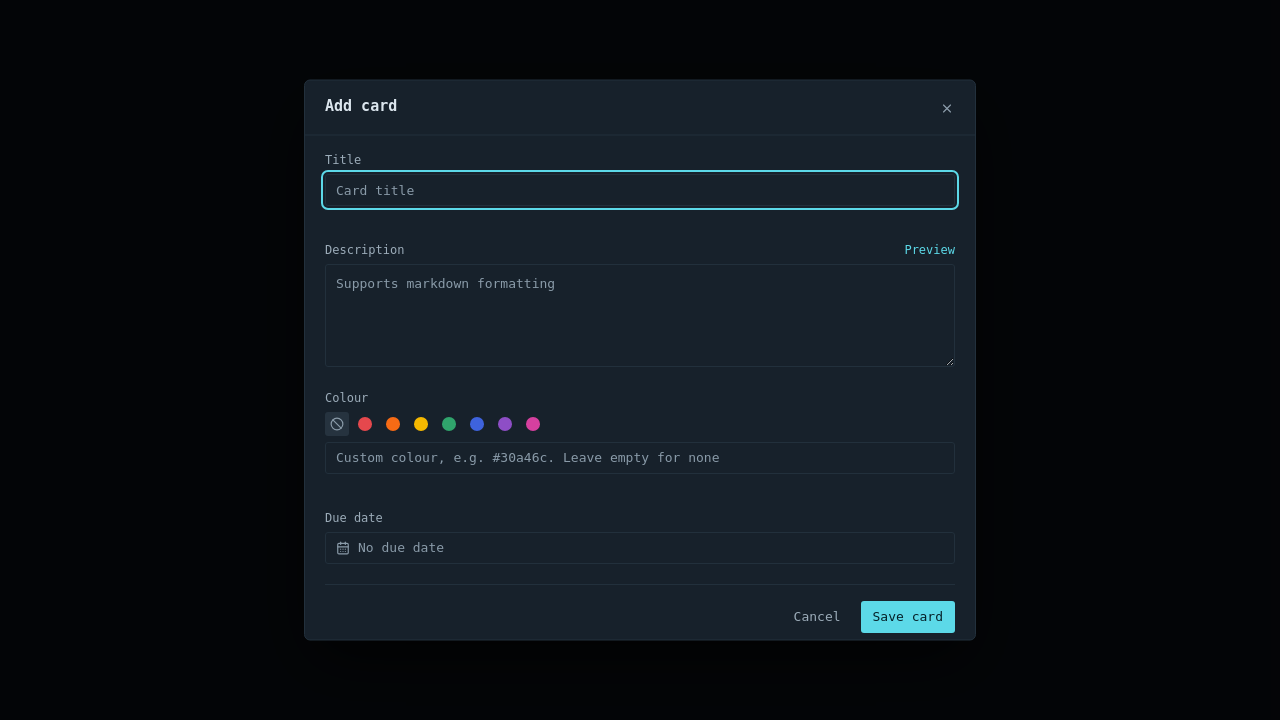
Test case: CardEditor › reports an invalid custom colour inline and focuses its field
The image size is (1280, 720).
Step 1. Type "A card" into the field labelled "Title" → x=640, y=190, box x1=325 y1=174 x2=955 y2=206
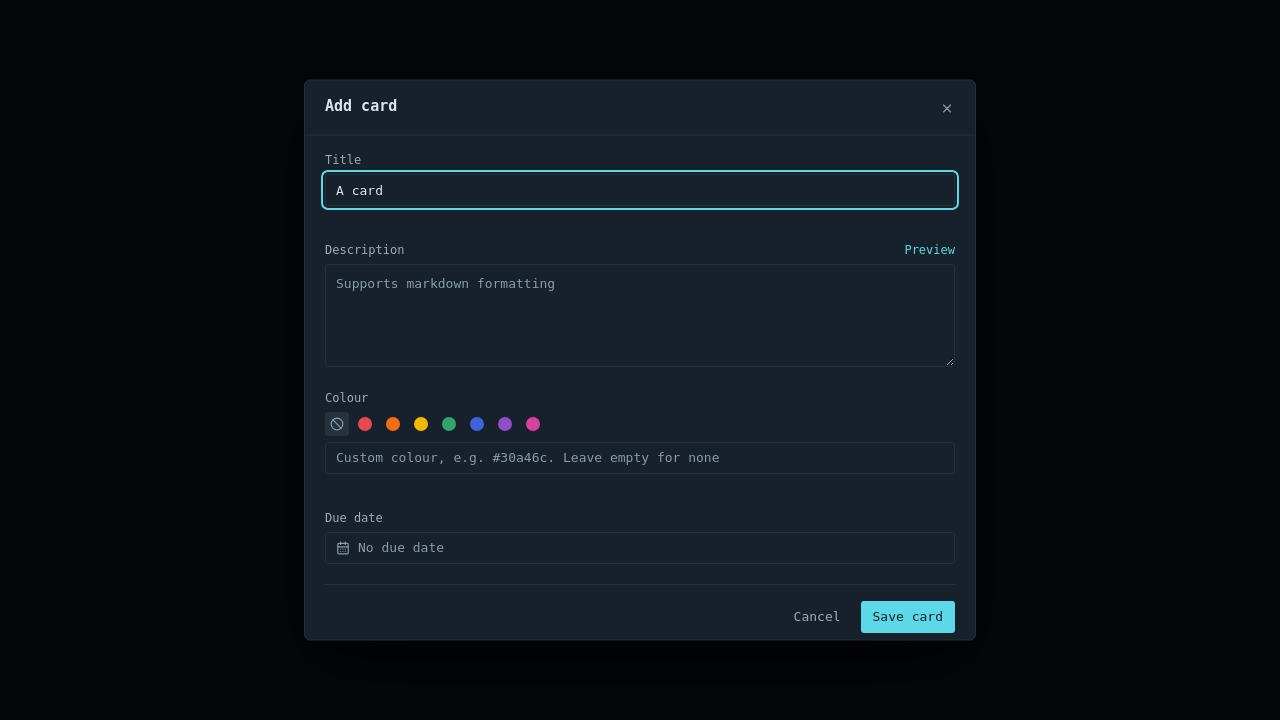
Step 2. Type "not-a-colour" into the field with placeholder "Custom colour, e.g. #30a46c. Leave empty for none" → x=640, y=457, box x1=325 y1=441 x2=955 y2=473
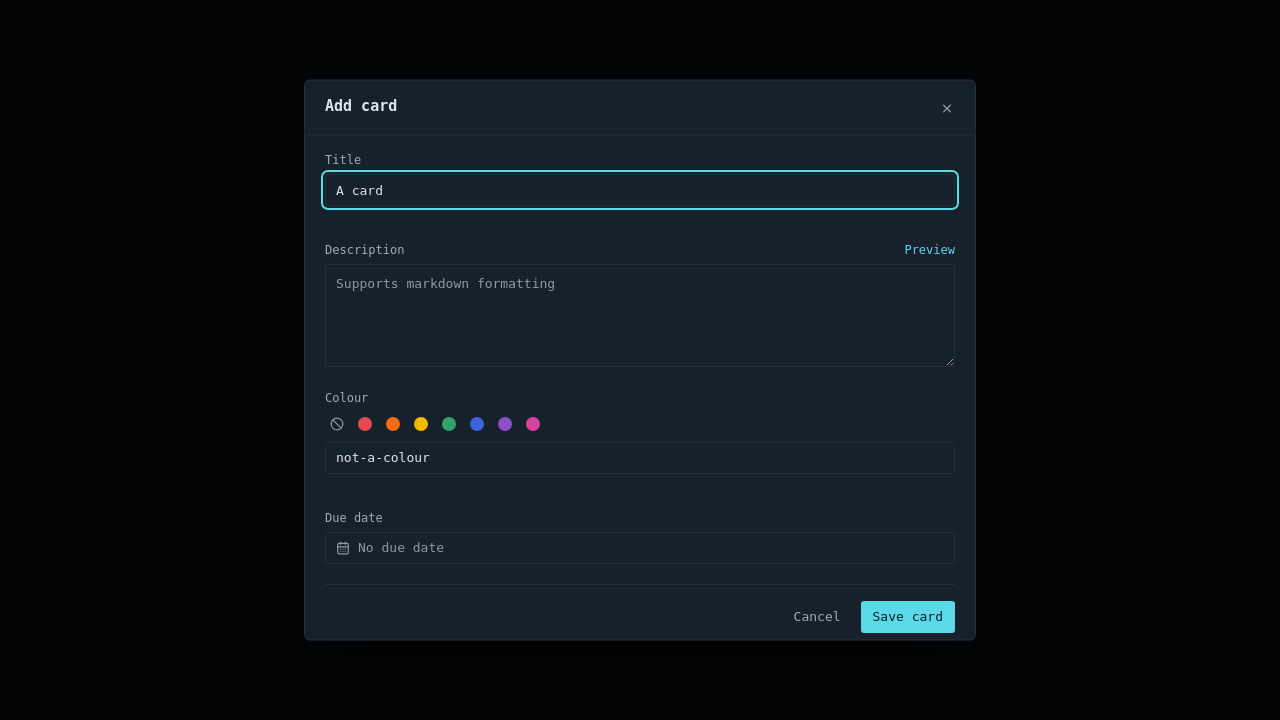
Step 3. Click the button "Save card" → x=908, y=616, box x1=860 y1=600 x2=955 y2=632
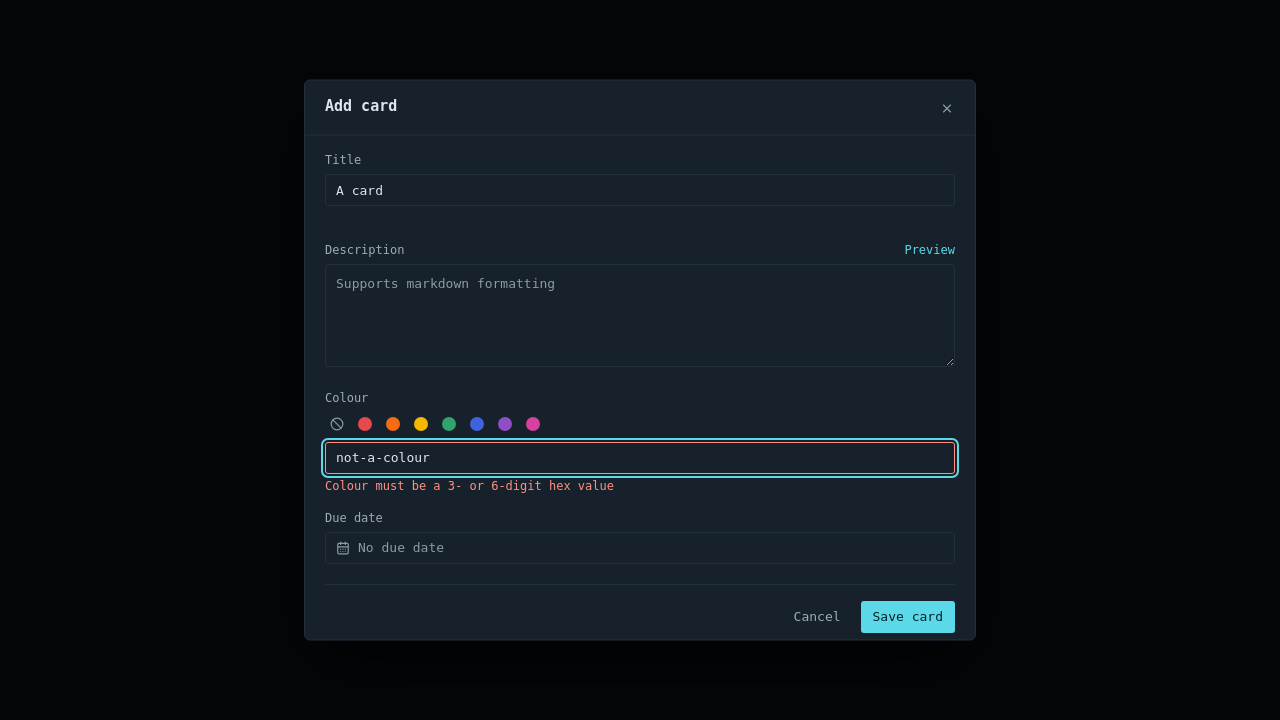
Check: the text "Colour must be a 3- or 6-digit hex value" is shown, box x1=325 y1=478 x2=614 y2=492
